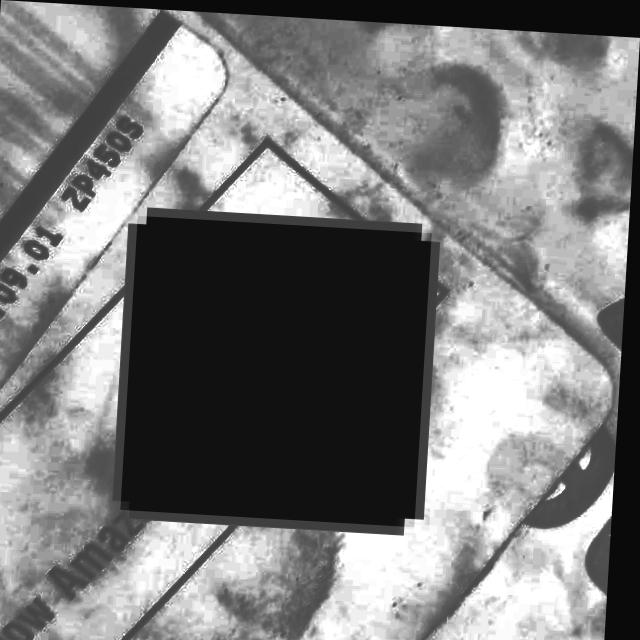qr_code: (126, 214, 433, 522)
